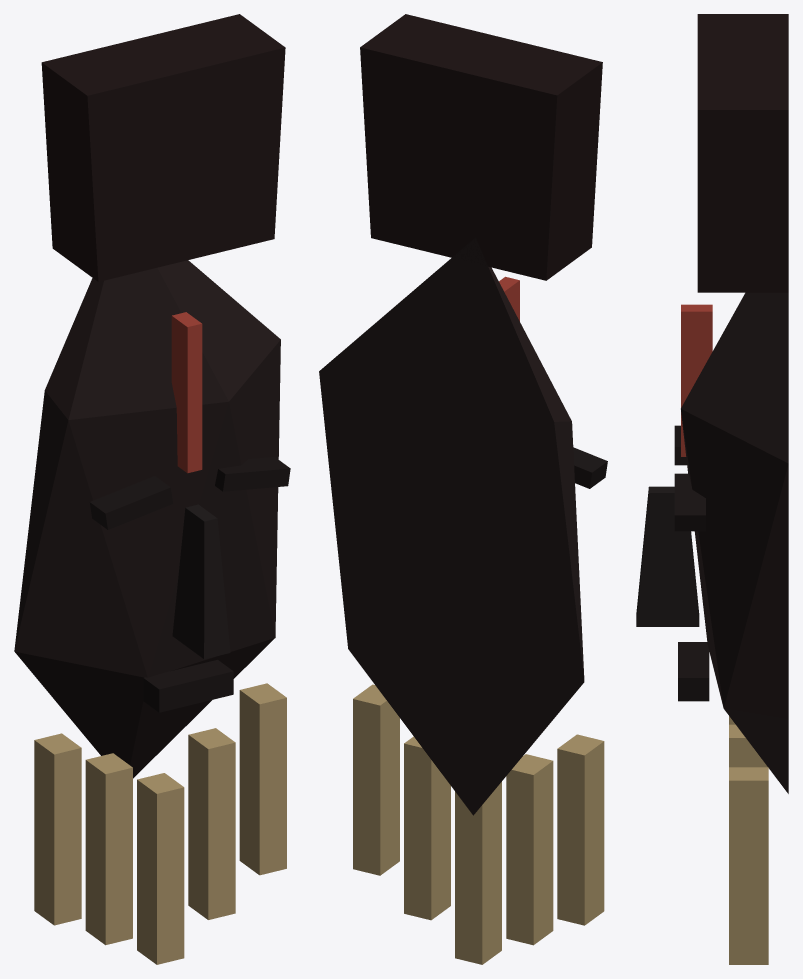
The model's file is wall-mask-09.glb.
3 renders of one model, left to right at view 1: azimuth 30°, elevation 25°; view 2: azimuth 150°, elevation 25°; view 3: azimuth 270°, elevation 25°, orthographic.
Parts seen in each view (by area): view 1: wall_mask_09; view 2: wall_mask_09; view 3: wall_mask_09.
Part boxes in pixels (x1,y1,x2,y2): wall_mask_09: (14,14,290,964); wall_mask_09: (319,14,607,964); wall_mask_09: (636,14,788,964).
Size of the model in its own units: 0.1943 by 0.6278 by 0.0967.
